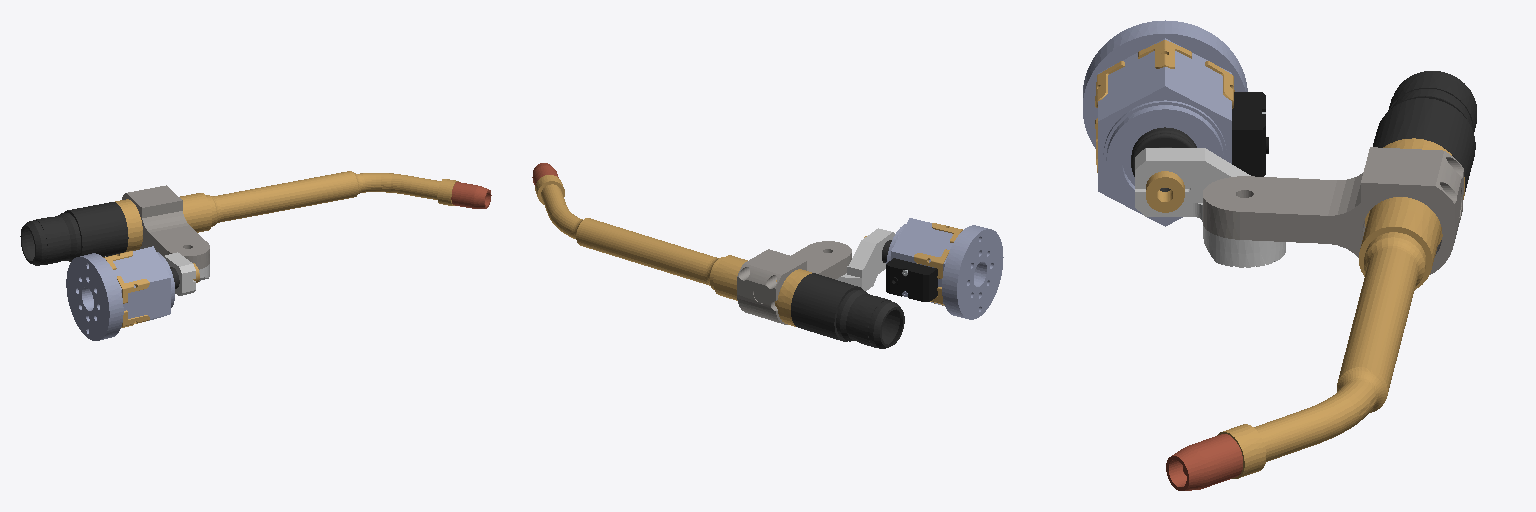
robot.urdf — robot:
<robot name="">
	<link name="base_link">
		<inertial>
			<origin rpy="0.00000 -0.00000 0.00000" xyz="0.00000 0.00000 0.00000" />
			<mass value="1.00000" />
			<inertia ixx="0.00999" ixy="0" ixz="0" iyy="0.01525" iyz="0" izz="0.01337" />
		</inertial>
		<visual>
			<origin rpy="0.00000 -0.00000 0.00000" xyz="0.00000 0.00000 0.00000" />
			<geometry>
				<mesh filename="rlbotics/envs/models/robots/kuka/kr10/meshes/kr10r1100sixx/visual/base_link.stl" scale="1.00000 1.00000 1.00000" />
			</geometry>
			<material name="0">
				<color rgba="0.05490 0.05490 0.06275 1.00000" />
			</material>
		</visual>
		<collision>
			<origin rpy="0.00000 -0.00000 0.00000" xyz="0.00000 0.00000 0.00000" />
			<geometry>
				<mesh filename="rlbotics/envs/models/robots/kuka/kr10/meshes/kr10r1100sixx/collision/base_link.stl" scale="1.00000 1.00000 1.00000" />
			</geometry>
		</collision>
	</link>
	<link name="link_1">
		<inertial>
			<origin rpy="0.00000 -0.00000 0.00000" xyz="0.00000 0.00000 0.00000" />
			<mass value="1.00000" />
			<inertia ixx="0.01294" ixy="0" ixz="0" iyy="0.01147" iyz="0" izz="0.01178" />
		</inertial>
		<visual>
			<origin rpy="0.00000 -0.00000 0.00000" xyz="0.00000 0.00000 0.00000" />
			<geometry>
				<mesh filename="rlbotics/envs/models/robots/kuka/kr10/meshes/kr10r1100sixx/visual/link_1.stl" scale="1.00000 1.00000 1.00000" />
			</geometry>
			<material name="1">
				<color rgba="0.96471 0.47059 0.15686 1.00000" />
			</material>
		</visual>
		<collision>
			<origin rpy="0.00000 -0.00000 0.00000" xyz="0.00000 0.00000 0.00000" />
			<geometry>
				<mesh filename="rlbotics/envs/models/robots/kuka/kr10/meshes/kr10r1100sixx/collision/link_1.stl" scale="1.00000 1.00000 1.00000" />
			</geometry>
		</collision>
	</link>
	<link name="link_2">
		<inertial>
			<origin rpy="0.00000 -0.00000 0.00000" xyz="0.00000 0.00000 0.00000" />
			<mass value="1.00000" />
			<inertia ixx="0.00832" ixy="0" ixz="0" iyy="0.04917" iyz="0" izz="0.05179" />
		</inertial>
		<visual>
			<origin rpy="0.00000 -0.00000 0.00000" xyz="0.00000 0.00000 0.00000" />
			<geometry>
				<mesh filename="rlbotics/envs/models/robots/kuka/kr10/meshes/kr10r1100sixx/visual/link_2.stl" scale="1.00000 1.00000 1.00000" />
			</geometry>
			<material name="2">
				<color rgba="0.96471 0.47059 0.15686 1.00000" />
			</material>
		</visual>
		<collision>
			<origin rpy="0.00000 -0.00000 0.00000" xyz="0.00000 0.00000 0.00000" />
			<geometry>
				<mesh filename="rlbotics/envs/models/robots/kuka/kr10/meshes/kr10r1100sixx/collision/link_2.stl" scale="1.00000 1.00000 1.00000" />
			</geometry>
		</collision>
	</link>
	<link name="link_3">
		<inertial>
			<origin rpy="0.00000 -0.00000 0.00000" xyz="0.00000 0.00000 0.00000" />
			<mass value="1.00000" />
			<inertia ixx="0.00421" ixy="0" ixz="0" iyy="0.00586" iyz="0" izz="0.00497" />
		</inertial>
		<visual>
			<origin rpy="0.00000 -0.00000 0.00000" xyz="0.00000 0.00000 0.00000" />
			<geometry>
				<mesh filename="rlbotics/envs/models/robots/kuka/kr10/meshes/kr10r1100sixx/visual/link_3.stl" scale="1.00000 1.00000 1.00000" />
			</geometry>
			<material name="3">
				<color rgba="0.96471 0.47059 0.15686 1.00000" />
			</material>
		</visual>
		<collision>
			<origin rpy="0.00000 -0.00000 0.00000" xyz="0.00000 0.00000 0.00000" />
			<geometry>
				<mesh filename="rlbotics/envs/models/robots/kuka/kr10/meshes/kr10r1100sixx/collision/link_3.stl" scale="1.00000 1.00000 1.00000" />
			</geometry>
		</collision>
	</link>
	<link name="link_4">
		<inertial>
			<origin rpy="0.00000 -0.00000 0.00000" xyz="0.00000 0.00000 0.00000" />
			<mass value="1.00000" />
			<inertia ixx="0.00319" ixy="0" ixz="0" iyy="0.01951" iyz="0" izz="0.01896" />
		</inertial>
		<visual>
			<origin rpy="0.00000 -0.00000 0.00000" xyz="0.00000 0.00000 0.00000" />
			<geometry>
				<mesh filename="rlbotics/envs/models/robots/kuka/kr10/meshes/kr10r1100sixx/visual/link_4.stl" scale="1.00000 1.00000 1.00000" />
			</geometry>
			<material name="4">
				<color rgba="0.96471 0.47059 0.15686 1.00000" />
			</material>
		</visual>
		<collision>
			<origin rpy="0.00000 -0.00000 0.00000" xyz="0.00000 0.00000 0.00000" />
			<geometry>
				<mesh filename="rlbotics/envs/models/robots/kuka/kr10/meshes/kr10r1100sixx/collision/link_4.stl" scale="1.00000 1.00000 1.00000" />
			</geometry>
		</collision>
	</link>
	<link name="link_5">
		<inertial>
			<origin rpy="0.00000 -0.00000 0.00000" xyz="0.00000 0.00000 0.00000" />
			<mass value="1.00000" />
			<inertia ixx="0.00120" ixy="0" ixz="0" iyy="0.00186" iyz="0" izz="0.00185" />
		</inertial>
		<visual>
			<origin rpy="0.00000 -0.00000 0.00000" xyz="0.00000 0.00000 0.00000" />
			<geometry>
				<mesh filename="rlbotics/envs/models/robots/kuka/kr10/meshes/kr10r1100sixx/visual/link_5.stl" scale="1.00000 1.00000 1.00000" />
			</geometry>
			<material name="5">
				<color rgba="0.96471 0.47059 0.15686 1.00000" />
			</material>
		</visual>
		<collision>
			<origin rpy="0.00000 -0.00000 0.00000" xyz="0.00000 0.00000 0.00000" />
			<geometry>
				<mesh filename="rlbotics/envs/models/robots/kuka/kr10/meshes/kr10r1100sixx/collision/link_5.stl" scale="1.00000 1.00000 1.00000" />
			</geometry>
		</collision>
	</link>
	<link name="link_6">
		<inertial>
			<origin rpy="0.00000 -0.00000 0.00000" xyz="0.00000 0.00000 0.00000" />
			<mass value="1.00000" />
			<inertia ixx="0.00035" ixy="0" ixz="0" iyy="0.00021" iyz="0" izz="0.00021" />
		</inertial>
		<visual>
			<origin rpy="0.00000 -0.00000 0.00000" xyz="0.00000 0.00000 0.00000" />
			<geometry>
				<mesh filename="rlbotics/envs/models/robots/kuka/kr10/meshes/kr10r1100sixx/visual/link_6.stl" scale="1.00000 1.00000 1.00000" />
			</geometry>
			<material name="6">
				<color rgba="0.50588 0.47059 0.38824 1.00000" />
			</material>
		</visual>
		<collision>
			<origin rpy="0.00000 -0.00000 0.00000" xyz="0.00000 0.00000 0.00000" />
			<geometry>
				<mesh filename="rlbotics/envs/models/robots/kuka/kr10/meshes/kr10r1100sixx/collision/link_6.stl" scale="1.00000 1.00000 1.00000" />
			</geometry>
		</collision>
	</link>
	<link name="tool0">
		<inertial>
			<origin rpy="0.00000 -0.00000 0.00000" xyz="0.00000 0.00000 0.00000" />
			<mass value="1.00000" />
			<inertia ixx="0.00000" ixy="0" ixz="0" iyy="0.00000" iyz="0" izz="0.00000" />
		</inertial>
	</link>
	<link name="base">
		<inertial>
			<origin rpy="0.00000 -0.00000 0.00000" xyz="0.00000 0.00000 0.00000" />
			<mass value="1.00000" />
			<inertia ixx="0.00000" ixy="0" ixz="0" iyy="0.00000" iyz="0" izz="0.00000" />
		</inertial>
	</link>
	<link name="root">
		<inertial>
			<origin rpy="0.00000 -0.00000 0.00000" xyz="-0.01448 -0.00427 0.02204" />
			<mass value="10.00000" />
			<inertia ixx="0.62536" ixy="0" ixz="0" iyy="0.53801" iyz="0" izz="0.12460" />
		</inertial>
		<visual>
			<origin rpy="0.00000 -0.00000 0.00000" xyz="-0.02792 -0.00816 0.04271" />
			<geometry>
				<mesh filename="rlbotics/envs/models/end_effectors/welding/welding_torch/meshes/stl/Body1.stl" scale="0.01913 0.01913 0.01913" />
			</geometry>
			<material name="7">
				<color rgba="0.80000 0.80000 0.80000 1.00000" />
			</material>
		</visual>
		<visual>
			<origin rpy="0.00000 -0.00000 0.00000" xyz="-0.02792 -0.00816 0.04271" />
			<geometry>
				<mesh filename="rlbotics/envs/models/end_effectors/welding/welding_torch/meshes/stl/Body10.stl" scale="0.01913 0.01913 0.01913" />
			</geometry>
			<material name="8">
				<color rgba="0.80000 0.64627 0.39843 1.00000" />
			</material>
		</visual>
		<visual>
			<origin rpy="0.00000 -0.00000 0.00000" xyz="-0.02792 -0.00816 0.04271" />
			<geometry>
				<mesh filename="rlbotics/envs/models/end_effectors/welding/welding_torch/meshes/stl/Body11.stl" scale="0.01913 0.01913 0.01913" />
			</geometry>
			<material name="9">
				<color rgba="0.80000 0.64627 0.39843 1.00000" />
			</material>
		</visual>
		<visual>
			<origin rpy="0.00000 -0.00000 0.00000" xyz="-0.02792 -0.00816 0.04271" />
			<geometry>
				<mesh filename="rlbotics/envs/models/end_effectors/welding/welding_torch/meshes/stl/Body12.stl" scale="0.01913 0.01913 0.01913" />
			</geometry>
			<material name="10">
				<color rgba="0.63373 0.65569 0.74667 1.00000" />
			</material>
		</visual>
		<visual>
			<origin rpy="0.00000 -0.00000 0.00000" xyz="-0.02792 -0.00816 0.04271" />
			<geometry>
				<mesh filename="rlbotics/envs/models/end_effectors/welding/welding_torch/meshes/stl/Body13.stl" scale="0.01913 0.01913 0.01913" />
			</geometry>
			<material name="11">
				<color rgba="0.71843 0.73412 0.74353 1.00000" />
			</material>
		</visual>
		<visual>
			<origin rpy="0.00000 -0.00000 0.00000" xyz="-0.02792 -0.00816 0.04271" />
			<geometry>
				<mesh filename="rlbotics/envs/models/end_effectors/welding/welding_torch/meshes/stl/Body14.stl" scale="0.01913 0.01913 0.01913" />
			</geometry>
			<material name="12">
				<color rgba="0.63373 0.65569 0.74667 1.00000" />
			</material>
		</visual>
		<visual>
			<origin rpy="0.00000 -0.00000 0.00000" xyz="-0.02792 -0.00816 0.04271" />
			<geometry>
				<mesh filename="rlbotics/envs/models/end_effectors/welding/welding_torch/meshes/stl/Body15.stl" scale="0.01913 0.01913 0.01913" />
			</geometry>
			<material name="13">
				<color rgba="0.80000 0.64627 0.39843 1.00000" />
			</material>
		</visual>
		<visual>
			<origin rpy="0.00000 -0.00000 0.00000" xyz="-0.02792 -0.00816 0.04271" />
			<geometry>
				<mesh filename="rlbotics/envs/models/end_effectors/welding/welding_torch/meshes/stl/Body16.stl" scale="0.01913 0.01913 0.01913" />
			</geometry>
			<material name="14">
				<color rgba="0.63373 0.65569 0.74667 1.00000" />
			</material>
		</visual>
		<visual>
			<origin rpy="0.00000 -0.00000 0.00000" xyz="-0.02792 -0.00816 0.04271" />
			<geometry>
				<mesh filename="rlbotics/envs/models/end_effectors/welding/welding_torch/meshes/stl/Body17.stl" scale="0.01913 0.01913 0.01913" />
			</geometry>
			<material name="15">
				<color rgba="0.63373 0.65569 0.74667 1.00000" />
			</material>
		</visual>
		<visual>
			<origin rpy="0.00000 -0.00000 0.00000" xyz="-0.02792 -0.00816 0.04271" />
			<geometry>
				<mesh filename="rlbotics/envs/models/end_effectors/welding/welding_torch/meshes/stl/Body18.stl" scale="0.01913 0.01913 0.01913" />
			</geometry>
			<material name="16">
				<color rgba="0.63373 0.65569 0.74667 1.00000" />
			</material>
		</visual>
		<visual>
			<origin rpy="0.00000 -0.00000 0.00000" xyz="-0.02792 -0.00816 0.04271" />
			<geometry>
				<mesh filename="rlbotics/envs/models/end_effectors/welding/welding_torch/meshes/stl/Body19.stl" scale="0.01913 0.01913 0.01913" />
			</geometry>
			<material name="17">
				<color rgba="0.63373 0.65569 0.74667 1.00000" />
			</material>
		</visual>
		<visual>
			<origin rpy="0.00000 -0.00000 0.00000" xyz="-0.02792 -0.00816 0.04271" />
			<geometry>
				<mesh filename="rlbotics/envs/models/end_effectors/welding/welding_torch/meshes/stl/Body2.stl" scale="0.01913 0.01913 0.01913" />
			</geometry>
			<material name="18">
				<color rgba="0.54902 0.48627 0.42353 1.00000" />
			</material>
		</visual>
		<visual>
			<origin rpy="0.00000 -0.00000 0.00000" xyz="-0.02792 -0.00816 0.04271" />
			<geometry>
				<mesh filename="rlbotics/envs/models/end_effectors/welding/welding_torch/meshes/stl/Body20.stl" scale="0.01913 0.01913 0.01913" />
			</geometry>
			<material name="19">
				<color rgba="0.63373 0.65569 0.74667 1.00000" />
			</material>
		</visual>
		<visual>
			<origin rpy="0.00000 -0.00000 0.00000" xyz="-0.02792 -0.00816 0.04271" />
			<geometry>
				<mesh filename="rlbotics/envs/models/end_effectors/welding/welding_torch/meshes/stl/Body21.stl" scale="0.01913 0.01913 0.01913" />
			</geometry>
			<material name="20">
				<color rgba="0.80000 0.64627 0.39843 1.00000" />
			</material>
		</visual>
		<visual>
			<origin rpy="0.00000 -0.00000 0.00000" xyz="-0.02792 -0.00816 0.04271" />
			<geometry>
				<mesh filename="rlbotics/envs/models/end_effectors/welding/welding_torch/meshes/stl/Body23.stl" scale="0.01913 0.01913 0.01913" />
			</geometry>
			<material name="21">
				<color rgba="0.23843 0.23843 0.23843 1.00000" />
			</material>
		</visual>
		<visual>
			<origin rpy="0.00000 -0.00000 0.00000" xyz="-0.02792 -0.00816 0.04271" />
			<geometry>
				<mesh filename="rlbotics/envs/models/end_effectors/welding/welding_torch/meshes/stl/Body24.stl" scale="0.01913 0.01913 0.01913" />
			</geometry>
			<material name="22">
				<color rgba="0.80000 0.64627 0.39843 1.00000" />
			</material>
		</visual>
		<visual>
			<origin rpy="0.00000 -0.00000 0.00000" xyz="-0.02792 -0.00816 0.04271" />
			<geometry>
				<mesh filename="rlbotics/envs/models/end_effectors/welding/welding_torch/meshes/stl/Body25.stl" scale="0.01913 0.01913 0.01913" />
			</geometry>
			<material name="23">
				<color rgba="0.23843 0.23843 0.23843 1.00000" />
			</material>
		</visual>
		<visual>
			<origin rpy="0.00000 -0.00000 0.00000" xyz="-0.02792 -0.00816 0.04271" />
			<geometry>
				<mesh filename="rlbotics/envs/models/end_effectors/welding/welding_torch/meshes/stl/Body26.stl" scale="0.01913 0.01913 0.01913" />
			</geometry>
			<material name="24">
				<color rgba="0.62118 0.55843 0.51137 1.00000" />
			</material>
		</visual>
		<visual>
			<origin rpy="0.00000 -0.00000 0.00000" xyz="-0.02792 -0.00816 0.04271" />
			<geometry>
				<mesh filename="rlbotics/envs/models/end_effectors/welding/welding_torch/meshes/stl/Body27.stl" scale="0.01913 0.01913 0.01913" />
			</geometry>
			<material name="25">
				<color rgba="0.67137 0.37333 0.29490 1.00000" />
			</material>
		</visual>
		<visual>
			<origin rpy="0.00000 -0.00000 0.00000" xyz="-0.02792 -0.00816 0.04271" />
			<geometry>
				<mesh filename="rlbotics/envs/models/end_effectors/welding/welding_torch/meshes/stl/Body3.stl" scale="0.01913 0.01913 0.01913" />
			</geometry>
			<material name="26">
				<color rgba="0.62118 0.60549 0.58980 1.00000" />
			</material>
		</visual>
		<visual>
			<origin rpy="0.00000 -0.00000 0.00000" xyz="-0.02792 -0.00816 0.04271" />
			<geometry>
				<mesh filename="rlbotics/envs/models/end_effectors/welding/welding_torch/meshes/stl/Body4.stl" scale="0.01913 0.01913 0.01913" />
			</geometry>
			<material name="27">
				<color rgba="0.80000 0.62431 0.52706 1.00000" />
			</material>
		</visual>
		<visual>
			<origin rpy="0.00000 -0.00000 0.00000" xyz="-0.02792 -0.00816 0.04271" />
			<geometry>
				<mesh filename="rlbotics/envs/models/end_effectors/welding/welding_torch/meshes/stl/Body5.stl" scale="0.01913 0.01913 0.01913" />
			</geometry>
			<material name="28">
				<color rgba="0.63373 0.65569 0.74667 1.00000" />
			</material>
		</visual>
		<visual>
			<origin rpy="0.00000 -0.00000 0.00000" xyz="-0.02792 -0.00816 0.04271" />
			<geometry>
				<mesh filename="rlbotics/envs/models/end_effectors/welding/welding_torch/meshes/stl/Body6.stl" scale="0.01913 0.01913 0.01913" />
			</geometry>
			<material name="29">
				<color rgba="0.16000 0.16000 0.16000 1.00000" />
			</material>
		</visual>
		<visual>
			<origin rpy="0.00000 -0.00000 0.00000" xyz="-0.02792 -0.00816 0.04271" />
			<geometry>
				<mesh filename="rlbotics/envs/models/end_effectors/welding/welding_torch/meshes/stl/Body7.stl" scale="0.01913 0.01913 0.01913" />
			</geometry>
			<material name="30">
				<color rgba="0.80000 0.64627 0.39843 1.00000" />
			</material>
		</visual>
		<visual>
			<origin rpy="0.00000 -0.00000 0.00000" xyz="-0.02792 -0.00816 0.04271" />
			<geometry>
				<mesh filename="rlbotics/envs/models/end_effectors/welding/welding_torch/meshes/stl/Body8.stl" scale="0.01913 0.01913 0.01913" />
			</geometry>
			<material name="31">
				<color rgba="0.80000 0.64627 0.39843 1.00000" />
			</material>
		</visual>
		<visual>
			<origin rpy="0.00000 -0.00000 0.00000" xyz="-0.02792 -0.00816 0.04271" />
			<geometry>
				<mesh filename="rlbotics/envs/models/end_effectors/welding/welding_torch/meshes/stl/Body9.stl" scale="0.01913 0.01913 0.01913" />
			</geometry>
			<material name="32">
				<color rgba="0.80000 0.64627 0.39843 1.00000" />
			</material>
		</visual>
		<collision>
			<origin rpy="0.00000 -0.00000 0.00000" xyz="-0.02694 -0.00899 0.04304" />
			<geometry>
				<mesh filename="rlbotics/envs/models/end_effectors/welding/welding_torch/meshes/stl/Body1.001.stl" scale="1.91308 1.91308 1.91308" />
			</geometry>
		</collision>
		<collision>
			<origin rpy="0.00000 -0.00000 0.00000" xyz="-0.03031 -0.00834 0.04250" />
			<geometry>
				<mesh filename="rlbotics/envs/models/end_effectors/welding/welding_torch/meshes/stl/Body23.001.stl" scale="1.91308 1.91308 1.91308" />
			</geometry>
		</collision>
		<collision>
			<origin rpy="0.00000 -0.00000 0.00000" xyz="-0.02830 -0.00808 0.04410" />
			<geometry>
				<mesh filename="rlbotics/envs/models/end_effectors/welding/welding_torch/meshes/stl/Body24.001.stl" scale="1.91308 1.91308 1.91308" />
			</geometry>
		</collision>
		<collision>
			<origin rpy="0.00000 -0.00000 0.00000" xyz="-0.02798 -0.00886 0.05092" />
			<geometry>
				<mesh filename="rlbotics/envs/models/end_effectors/welding/welding_torch/meshes/stl/Body25.001.stl" scale="1.91308 1.91308 1.91308" />
			</geometry>
		</collision>
		<collision>
			<origin rpy="0.00000 -0.00000 0.00000" xyz="-0.02695 -0.00714 0.04028" />
			<geometry>
				<mesh filename="rlbotics/envs/models/end_effectors/welding/welding_torch/meshes/stl/Body3.001.stl" scale="1.91308 1.91308 1.91308" />
			</geometry>
		</collision>
		<collision>
			<origin rpy="0.00000 -0.00000 0.00000" xyz="-0.02659 -0.00839 0.04212" />
			<geometry>
				<mesh filename="rlbotics/envs/models/end_effectors/welding/welding_torch/meshes/stl/Body5.001.stl" scale="1.91308 1.91308 1.91308" />
			</geometry>
		</collision>
		<collision>
			<origin rpy="0.00000 -0.00000 0.00000" xyz="-0.02771 -0.00796 0.04287" />
			<geometry>
				<mesh filename="rlbotics/envs/models/end_effectors/welding/welding_torch/meshes/stl/Body6.001.stl" scale="1.91308 1.91308 1.91308" />
			</geometry>
		</collision>
	</link>
	<link name="ee_joint_arm">
		<inertial>
			<origin rpy="0.00000 -0.00000 0.00000" xyz="-0.01458 -0.00585 0.05244" />
			<mass value="2.00000" />
			<inertia ixx="0.00442" ixy="0" ixz="0" iyy="0.00442" iyz="0" izz="0.00843" />
		</inertial>
		<visual>
			<origin rpy="0.00000 -0.00000 0.00000" xyz="-0.02797 -0.01121 0.09982" />
			<geometry>
				<mesh filename="rlbotics/envs/models/end_effectors/welding/welding_torch/meshes/stl/Body22.stl" scale="0.01913 0.01913 0.01913" />
			</geometry>
			<material name="33">
				<color rgba="0.63373 0.65569 0.74667 1.00000" />
			</material>
		</visual>
		<collision>
			<origin rpy="0.00000 -0.00000 0.00000" xyz="-0.02788 -0.01119 0.10032" />
			<geometry>
				<mesh filename="rlbotics/envs/models/end_effectors/welding/welding_torch/meshes/stl/Body22.001.stl" scale="1.91308 1.91308 1.91308" />
			</geometry>
		</collision>
	</link>
	<link name="nozzle_tip">
		<inertial>
			<origin rpy="0.00000 -0.00000 0.00000" xyz="-0.01570 -0.30904 -0.22158" />
			<mass value="2.00000" />
			<inertia ixx="0.00381" ixy="0" ixz="0" iyy="0.00232" iyz="0" izz="0.00228" />
		</inertial>
		<visual>
			<origin rpy="-0.92502 0.00000 0.00000" xyz="-0.02985 -0.59008 -0.41691" />
			<geometry>
				<mesh filename="rlbotics/envs/models/end_effectors/welding/welding_torch/meshes/stl/Body28.stl" scale="0.01913 0.01913 0.01913" />
			</geometry>
			<material name="34">
				<color rgba="0.67137 0.37333 0.29490 1.00000" />
			</material>
		</visual>
		<collision>
			<origin rpy="-0.92502 0.00000 0.00000" xyz="-0.03004 -0.59122 -0.42390" />
			<geometry>
				<mesh filename="rlbotics/envs/models/end_effectors/welding/welding_torch/meshes/stl/Body28.001.stl" scale="1.91308 1.91308 1.91308" />
			</geometry>
		</collision>
	</link>
	<joint name="joint_a1" type="revolute">
		<parent link="base_link" />
		<child link="link_1" />
		<dynamics damping="0.0" friction="0.0" />
		<origin rpy="0.00000 -0.00000 0.00000" xyz="0.00000 0.00000 0.40000" />
		<axis xyz="0.00000 0.00000 -1.00000" />
	<limit effort="0.0" lower="-2.9670597283903604" upper="2.9670597283903604" velocity="6.283185307179586" /></joint>
	<joint name="joint_a2" type="revolute">
		<parent link="link_1" />
		<child link="link_2" />
		<dynamics damping="0.0" friction="0.0" />
		<origin rpy="0.00000 -0.00000 0.00000" xyz="0.02500 0.00000 0.00000" />
		<axis xyz="0.00000 1.00000 0.00000" />
	<limit effort="0.0" lower="-3.3161255787892263" upper="0.7853981633974483" velocity="5.235987755982989" /></joint>
	<joint name="joint_a3" type="revolute">
		<parent link="link_2" />
		<child link="link_3" />
		<dynamics damping="0.0" friction="0.0" />
		<origin rpy="0.00000 -0.00000 0.00000" xyz="0.56000 0.00000 0.00000" />
		<axis xyz="0.00000 1.00000 0.00000" />
	<limit effort="0.0" lower="-2.0943951023931953" upper="2.722713633111154" velocity="6.283185307179586" /></joint>
	<joint name="joint_a4" type="revolute">
		<parent link="link_3" />
		<child link="link_4" />
		<dynamics damping="0.0" friction="0.0" />
		<origin rpy="0.00000 -0.00000 0.00000" xyz="0.00000 0.00000 0.03500" />
		<axis xyz="-1.00000 0.00000 0.00000" />
	<limit effort="0.0" lower="-3.2288591161895095" upper="3.2288591161895095" velocity="6.649704450098396" /></joint>
	<joint name="joint_a5" type="revolute">
		<parent link="link_4" />
		<child link="link_5" />
		<dynamics damping="0.0" friction="0.0" />
		<origin rpy="0.00000 -0.00000 0.00000" xyz="0.51500 0.00000 0.00000" />
		<axis xyz="0.00000 1.00000 0.00000" />
	<limit effort="0.0" lower="-2.0943951023931953" upper="2.0943951023931953" velocity="6.771877497737998" /></joint>
	<joint name="joint_a6" type="revolute">
		<parent link="link_5" />
		<child link="link_6" />
		<dynamics damping="0.0" friction="0.0" />
		<origin rpy="0.00000 -0.00000 0.00000" xyz="0.08000 0.00000 0.00000" />
		<axis xyz="-1.00000 0.00000 0.00000" />
	<limit effort="0.0" lower="-6.1086523819801535" upper="6.1086523819801535" velocity="10.733774899765127" /></joint>
	<joint name="joint_a6-tool0" type="fixed">
		<parent link="link_6" />
		<child link="tool0" />
		<dynamics damping="1.0" friction="0.0001" />
		<origin rpy="0.00000 1.57080 -0.00000" xyz="0.00000 0.00000 0.00000" />
		<axis xyz="0.00000 0.00000 0.00000" />
	</joint>
	<joint name="base_link-base" type="fixed">
		<parent link="base_link" />
		<child link="base" />
		<dynamics damping="1.0" friction="0.0001" />
		<origin rpy="0.00000 -0.00000 0.00000" xyz="0.00000 0.00000 0.00000" />
		<axis xyz="0.00000 0.00000 0.00000" />
	</joint>
	<joint name="joint_dummy1" type="fixed">
		<parent link="link_5" />
		<child link="root" />
		<dynamics damping="1.0" friction="0.0001" />
		<origin rpy="0.00000 1.57080 0.00000" xyz="0.00000 0.00000 0.00000" />
		<axis xyz="0.00000 0.00000 1.00000" />
	</joint>
	<joint name="ee_joint_arm" type="fixed">
		<parent link="root" />
		<child link="ee_joint_arm" />
		<dynamics damping="1.0" friction="0.0001" />
		<origin rpy="0.00000 -0.00000 0.00000" xyz="0.00005 0.00304 -0.05711" />
		<axis xyz="0.00000 0.00000 0.00000" />
	</joint>
	<joint name="nozzle_tip" type="fixed">
		<parent link="root" />
		<child link="nozzle_tip" />
		<dynamics damping="1.0" friction="0.0001" />
		<origin rpy="0.92502 -0.00000 0.00000" xyz="0.00193 0.01399 0.76487" />
		<axis xyz="0.00000 0.00000 0.00000" />
	</joint>
</robot>

--- Render facts (derived) ---
The picture shows the robot from 3 angles, left to right: view 1: azimuth 30°, elevation 25°; view 2: azimuth 150°, elevation 25°; view 3: azimuth 270°, elevation 25°; orthographic projection.
Model robot with 12 links and 11 joints (6 revolute, 5 fixed), rooted at base_link, posed every joint at zero.
Links seen in each view (by area): view 1: root, ee_joint_arm, nozzle_tip; view 2: root, ee_joint_arm; view 3: root, ee_joint_arm, nozzle_tip.
Boxes of the visible links, x1,y1,x2,y2 form: root: [20, 171, 458, 327]; ee_joint_arm: [66, 253, 123, 340]; nozzle_tip: [451, 182, 491, 208]; root: [535, 175, 962, 348]; ee_joint_arm: [942, 225, 1003, 319]; root: [1095, 38, 1476, 478]; ee_joint_arm: [1083, 20, 1247, 148]; nozzle_tip: [1166, 434, 1242, 490].
Bounding box of the posed robot: 0.8374 × 0.3655 × 0.153 m (x, y, z).
28 mesh visuals loaded from 35 distinct referenced files (28 binary STL); not drawn: 7 (reference not matched to a file when rendering).